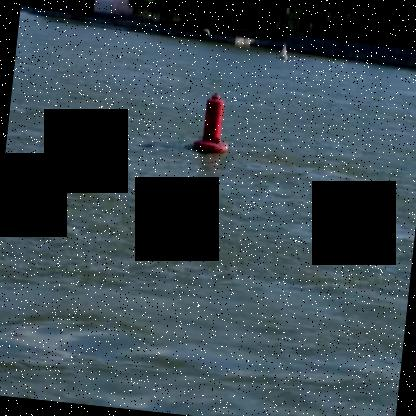Buoy: (186, 80, 239, 164), (275, 40, 292, 64)
